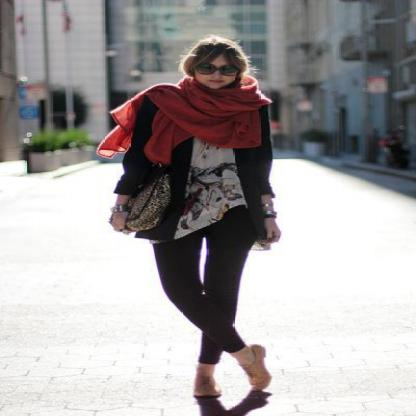bag: (121, 191, 170, 237)
jacket: (114, 96, 279, 247)
pants: (154, 209, 260, 364)
shirt: (162, 142, 245, 239)
shoe: (194, 365, 270, 400)
sunglass: (185, 56, 246, 83)
